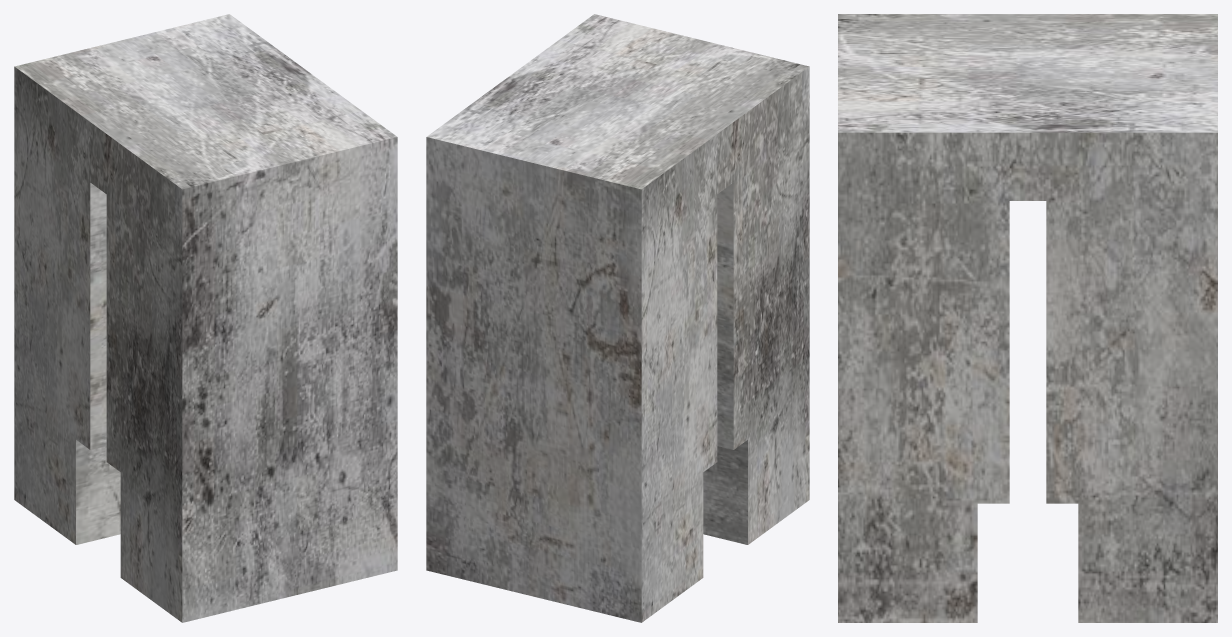
File: entrance.fbx
3 views of the same model, side by side, from view 1: azimuth 30°, elevation 25°; view 2: azimuth 150°, elevation 25°; view 3: azimuth 270°, elevation 25° (orthographic). The views are drawn at different scales.
Parts seen in each view (by area): view 1: entrance; view 2: entrance; view 3: entrance.
Part boxes in pixels (x1,y1,x2,y2): entrance: [14, 14, 397, 622]; entrance: [426, 14, 809, 622]; entrance: [838, 14, 1217, 622].
Size of the model in its own units: 19.34 by 37.24 by 26.16.
1 material, 1 textured.
